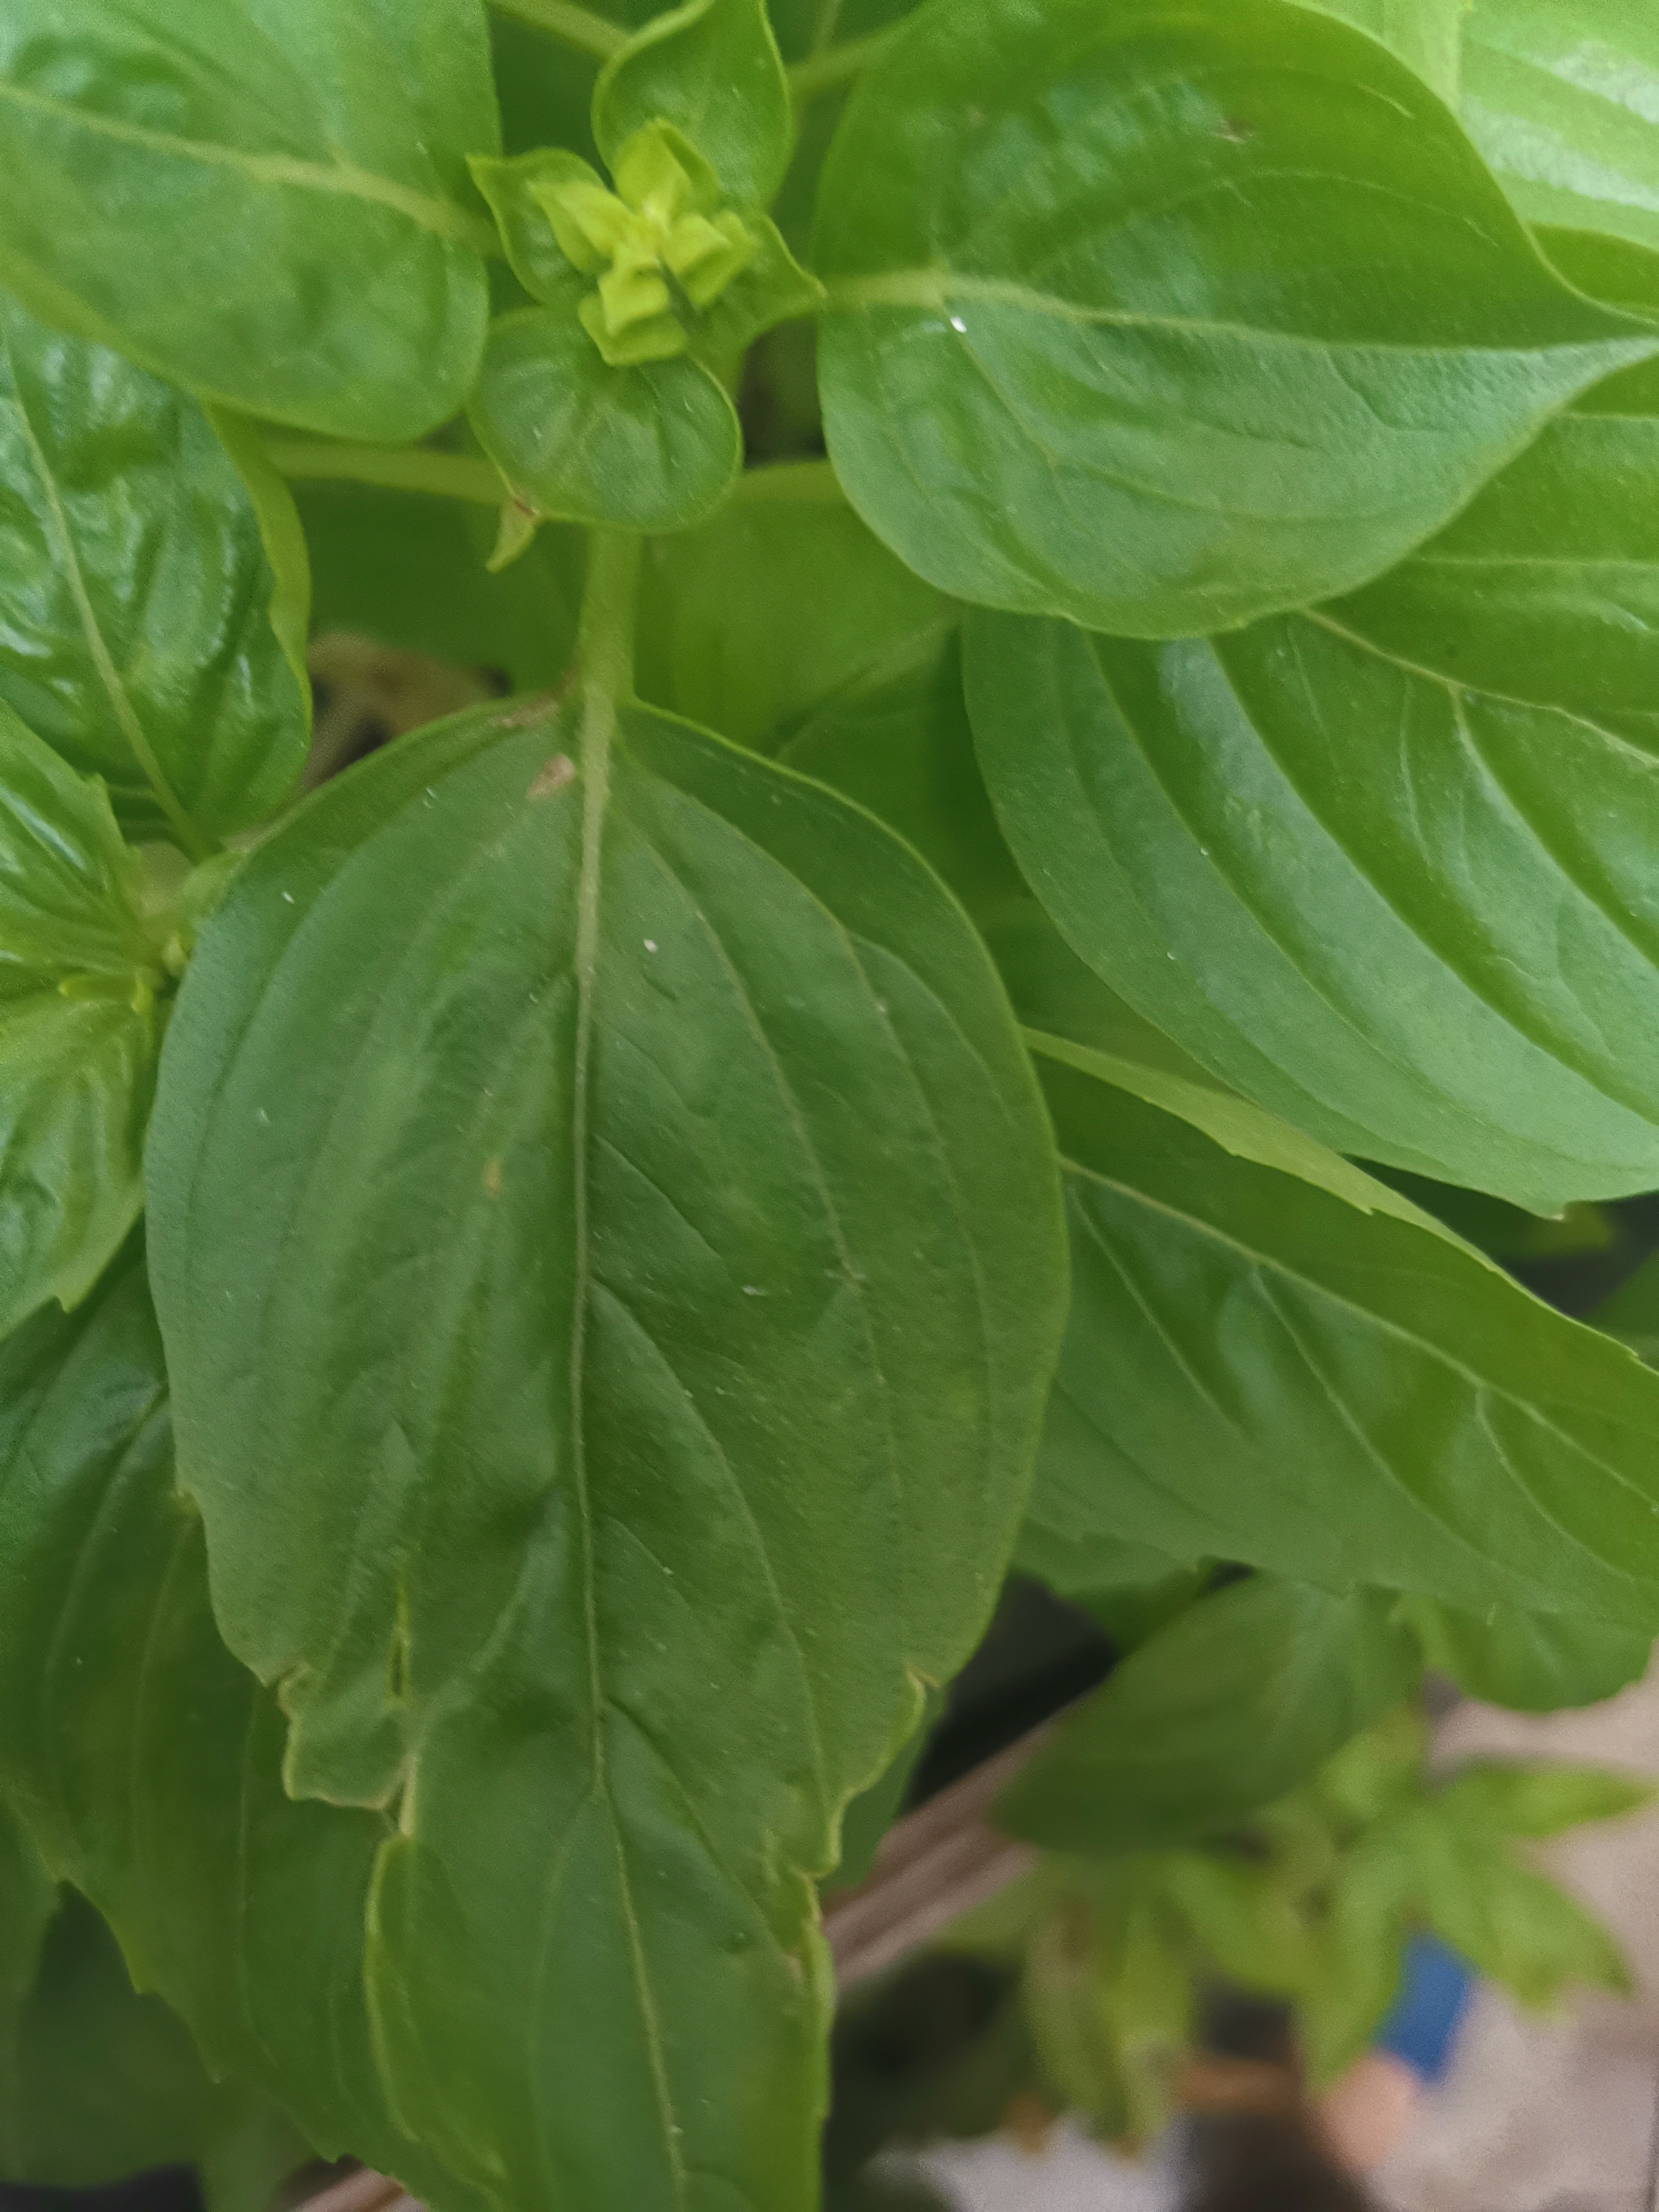Basil_healthy: (185, 719, 1070, 2212), (938, 228, 1659, 1242), (805, 0, 1610, 660), (983, 1036, 1659, 1646), (0, 284, 345, 953), (17, 0, 547, 415)
